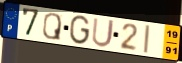2: (120, 22, 139, 52)
7: (21, 7, 40, 38)
G: (68, 14, 92, 46)
I: (143, 24, 151, 54)
Q: (42, 12, 63, 42)
U: (90, 17, 116, 49)
